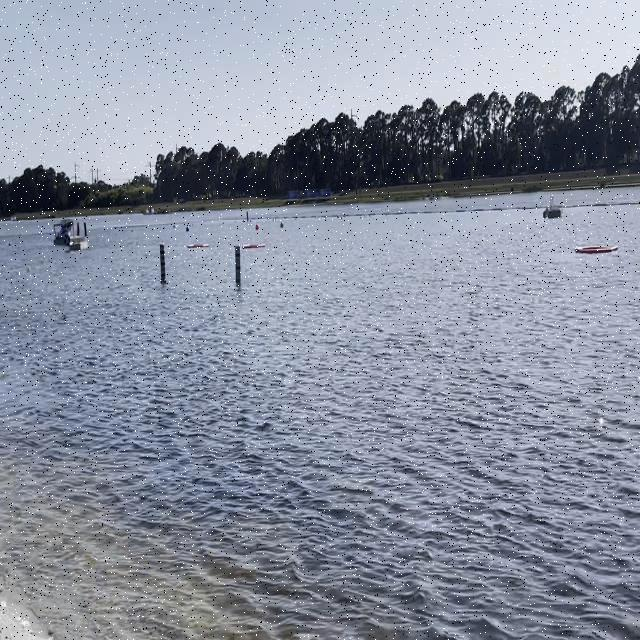buoy: (256, 224, 260, 230), (280, 222, 284, 228)
